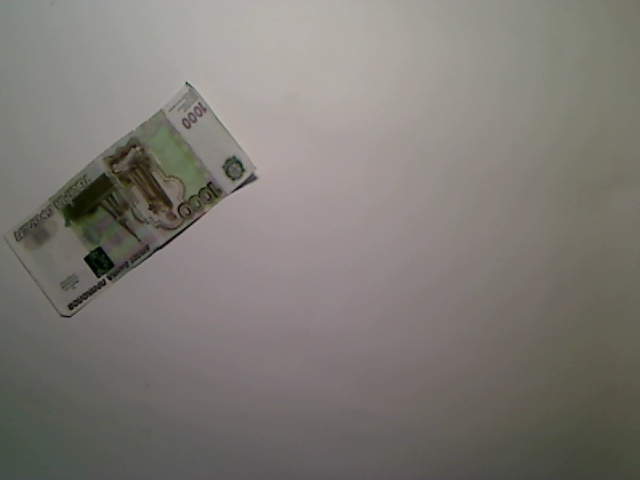banknotes: (5, 82, 258, 318)
